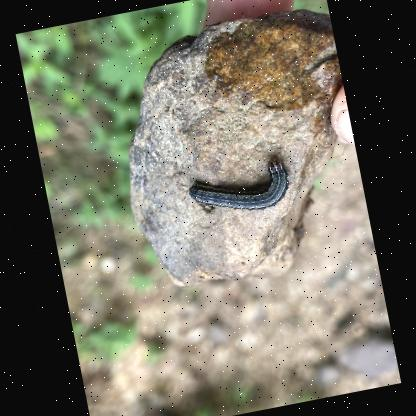Fall Armyworm Larvae: (182, 151, 297, 224)
